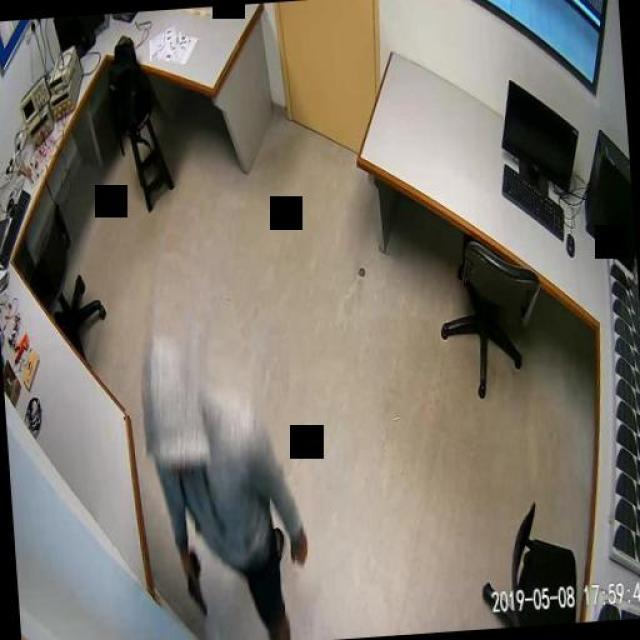gun: (182, 546, 208, 616)
